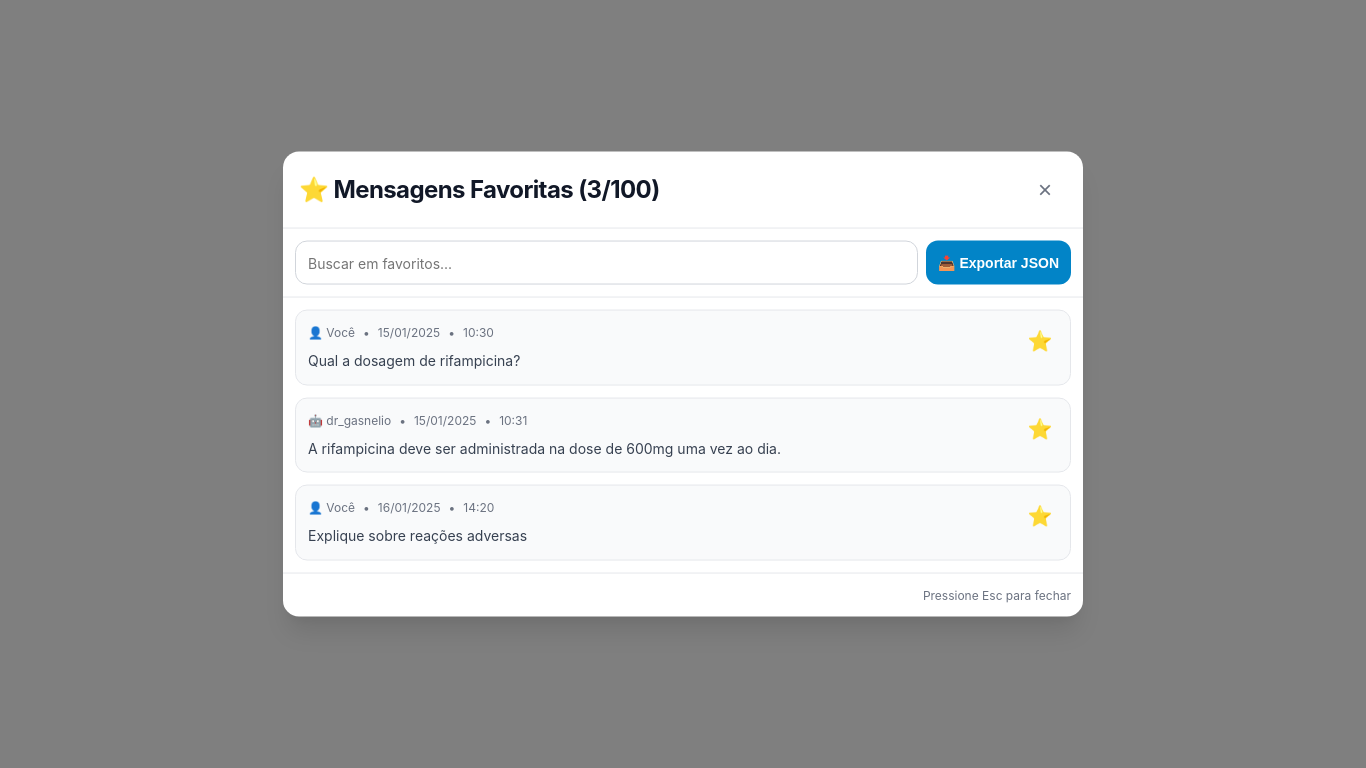
Test: FavoritesModal - Issue #331 › Search Functionality › should filter favorites by content
The width and height of the screenshot is (1366, 768).
Type "rifampicina" into the search field at (606, 262), box top-left (295, 240), bottom-right (918, 284)
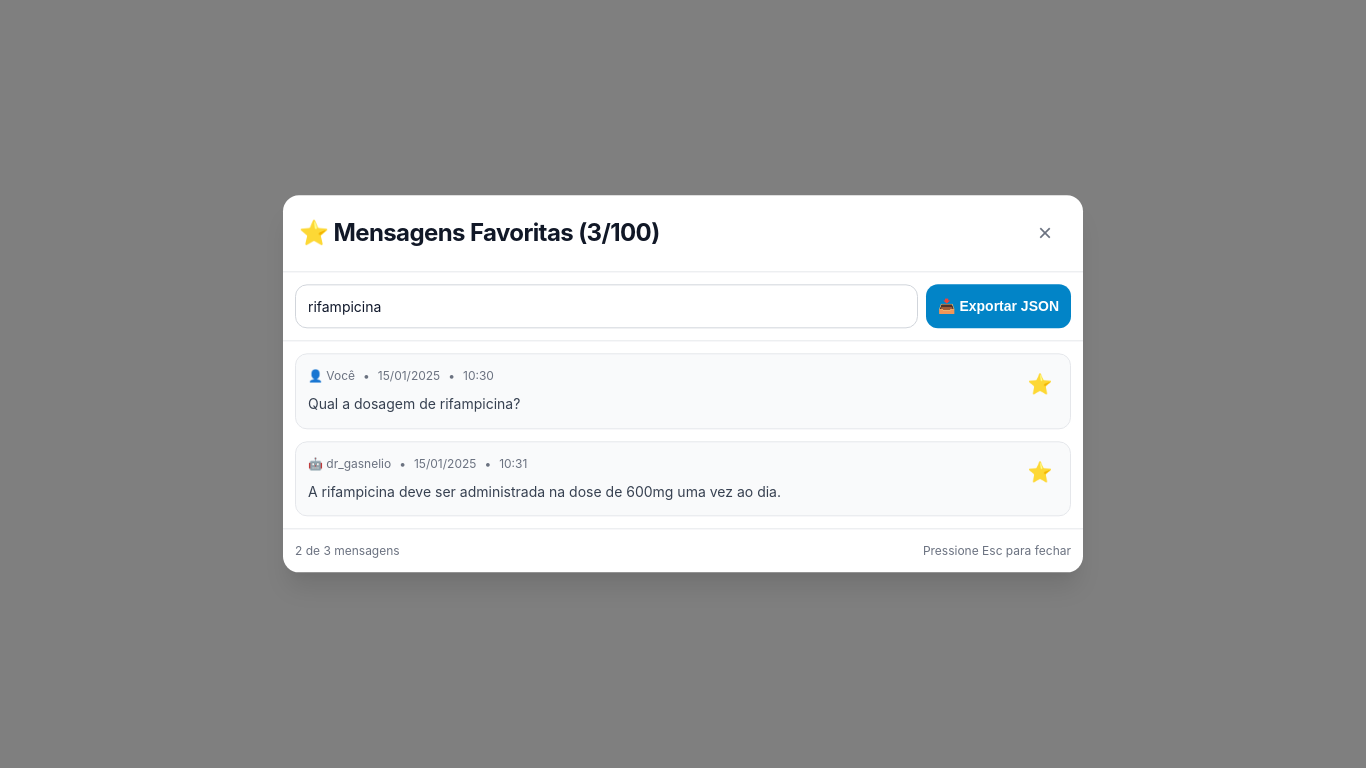
Expected: the text "Qual a dosagem de rifampicina?" is shown, top-left (308, 396), bottom-right (520, 412)
Expected: the text "Explique sobre reações adversas" is gone
